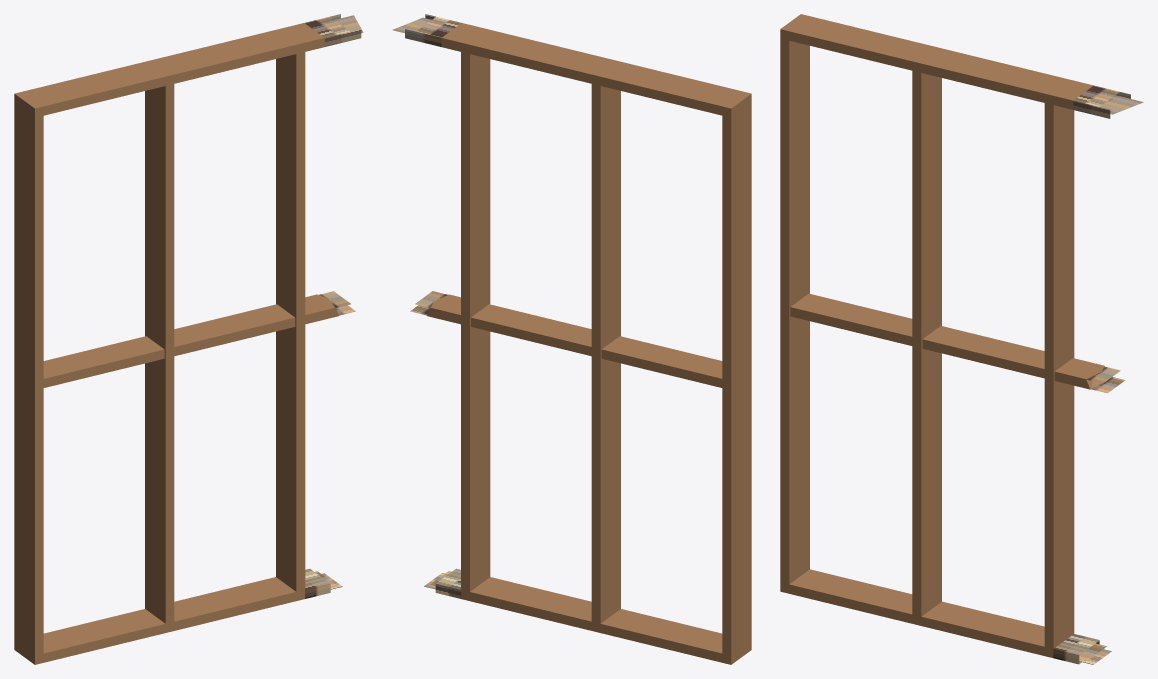
File: DBK_WoodFrame_Side_B.fbx
3 views of the same model, side by side, from view 1: azimuth 30°, elevation 25°; view 2: azimuth 150°, elevation 25°; view 3: azimuth 330°, elevation 25° (orthographic).
Parts seen in each view (by area): view 1: DBK_WoodFrame_Side_B; view 2: DBK_WoodFrame_Side_B; view 3: DBK_WoodFrame_Side_B.
Part boxes in pixels (bbox=[...]): DBK_WoodFrame_Side_B: bbox=[14, 14, 363, 664]; DBK_WoodFrame_Side_B: bbox=[392, 14, 751, 664]; DBK_WoodFrame_Side_B: bbox=[780, 14, 1143, 664].
Size of the model in its own units: 191 by 300 by 20.
